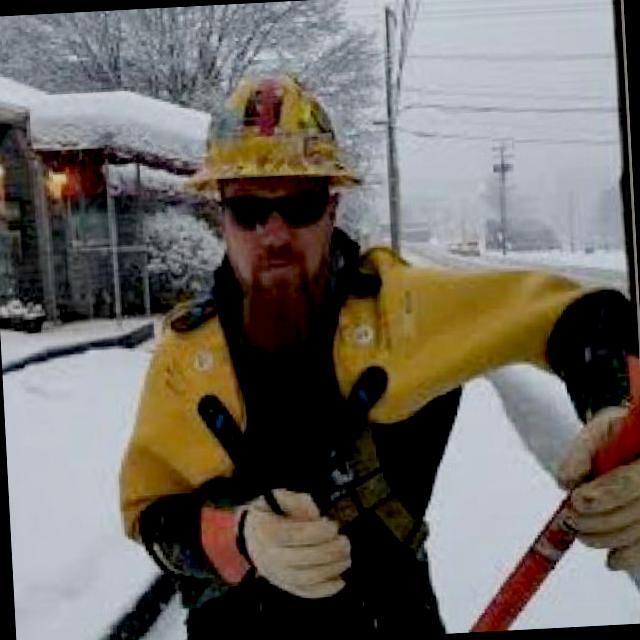vest: (97, 249, 640, 552)
